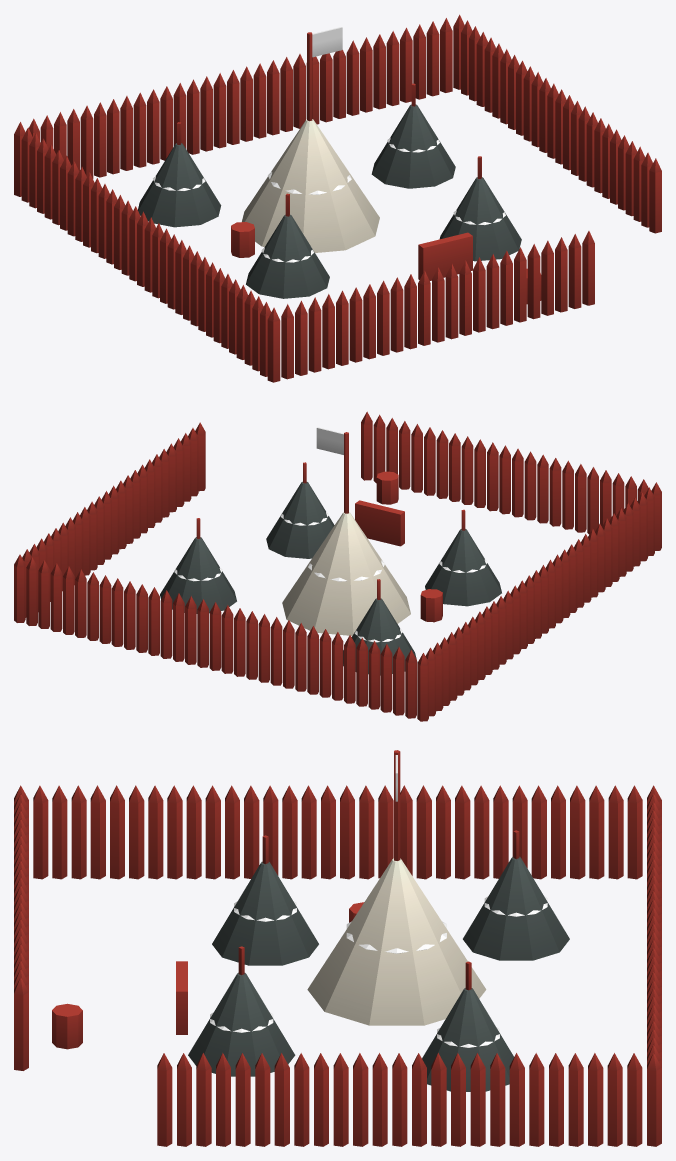
The model's file is CAMP_EA.glb.
The picture shows the model from 3 angles, top to bottom: view 1: azimuth 30°, elevation 25°; view 2: azimuth 150°, elevation 25°; view 3: azimuth 270°, elevation 25°; orthographic projection. The views are drawn at different scales.
Parts seen in each view (by area): view 1: Body, Flag; view 2: Body, Flag; view 3: Body.
Boxes of the visible parts, x1,y1,x2,y2 form: Body: (14,14,661,382); Flag: (312,27,342,57); Body: (14,411,661,721); Flag: (316,427,343,454); Body: (14,750,661,1146).
Size of the model in its own units: 5.43 by 2.2 by 5.43.
1 material, 1 textured.
